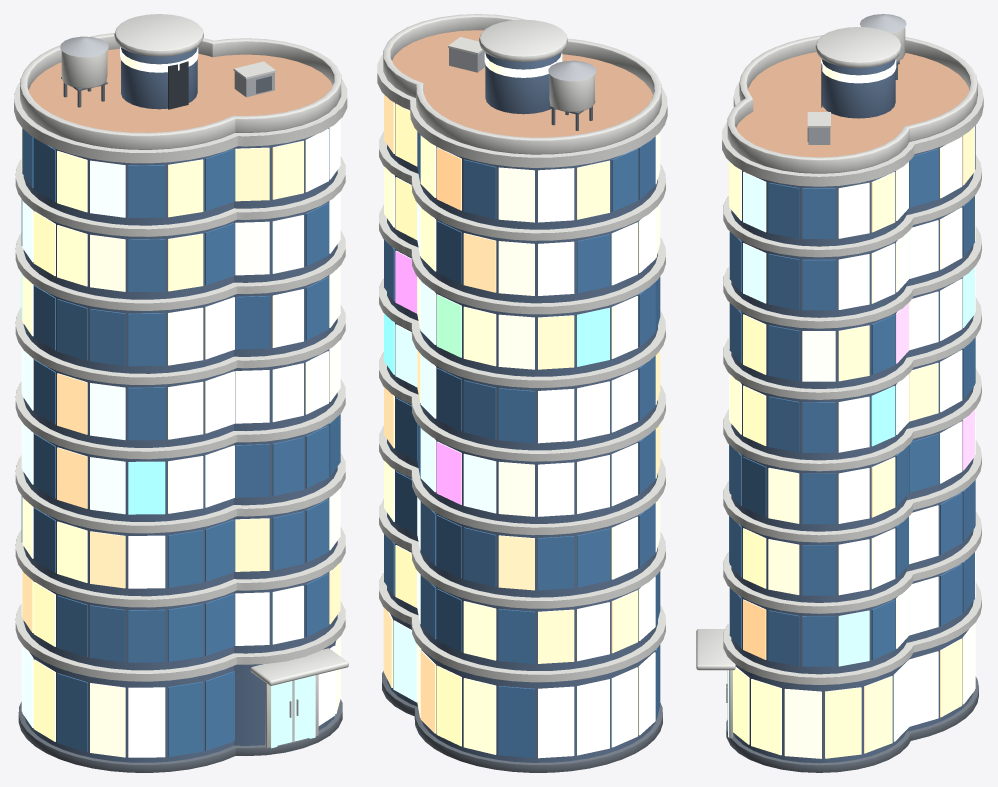
The model's file is predio_cilindrico_faixas.glb.
3 renders of one model, left to right at view 1: azimuth 30°, elevation 25°; view 2: azimuth 150°, elevation 25°; view 3: azimuth 270°, elevation 25°, orthographic. The views are drawn at different scales.
Parts seen in each view (by area): view 1: predio_cilindrico_faixas; view 2: predio_cilindrico_faixas; view 3: predio_cilindrico_faixas.
Boxes of the visible parts, x1=… form: predio_cilindrico_faixas: x1=14, y1=14, x2=348, y2=772; predio_cilindrico_faixas: x1=377, y1=14, x2=667, y2=772; predio_cilindrico_faixas: x1=696, y1=14, x2=983, y2=772.
Size of the model in its own units: 12.76 by 29.55 by 11.68.
Materials: 9 (1 with a texture image).
